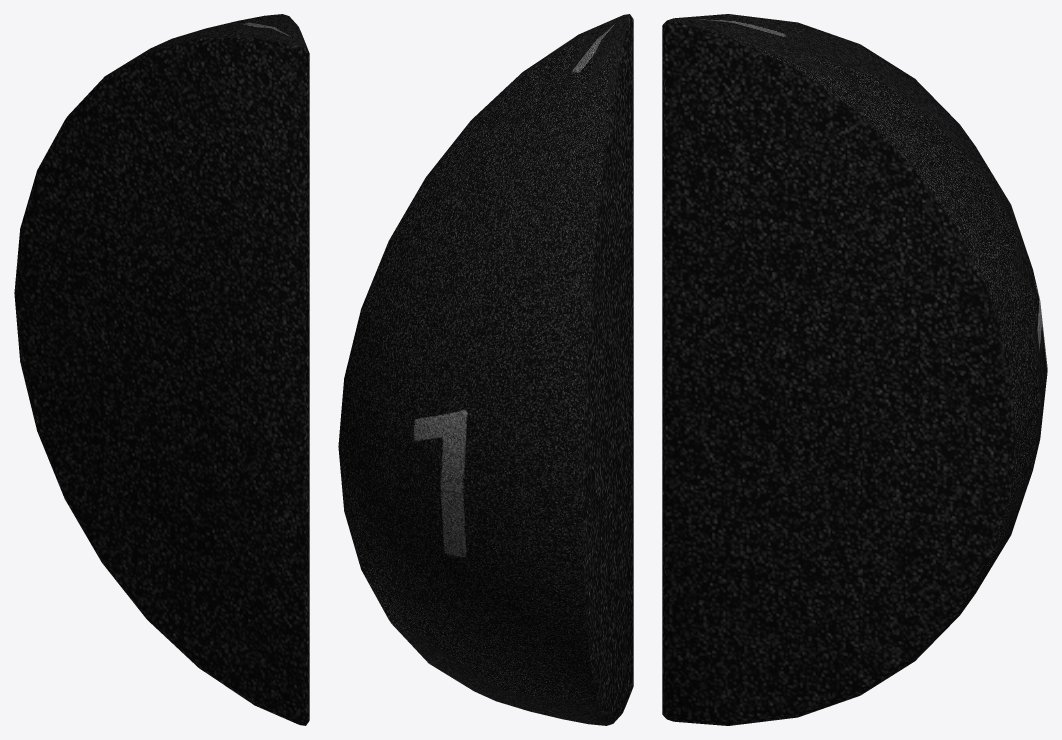
Rendered from wedge.glb.
The picture shows the model from 3 angles, left to right: view 1: azimuth 30°, elevation 25°; view 2: azimuth 150°, elevation 25°; view 3: azimuth 270°, elevation 25°; orthographic projection. The views are drawn at different scales.
Visible parts, largest first — view 1: Wedge; view 2: Wedge; view 3: Wedge.
Part boxes in pixels (x1,y1,x2,y2): Wedge: (14, 14, 309, 725); Wedge: (338, 14, 633, 725); Wedge: (662, 14, 1047, 725).
Size of the model in its own units: 0.373 by 0.9935 by 0.4932.
1 material, 1 textured.
